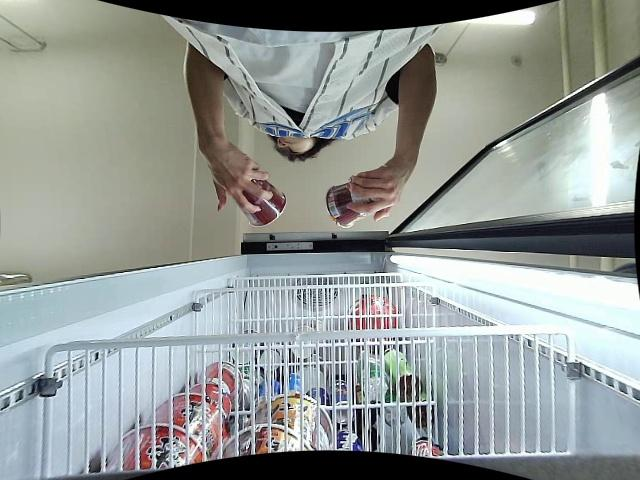00_hand: (205, 145, 274, 213), (347, 162, 415, 221)
06_nuguri_S: (232, 169, 286, 226), (326, 180, 373, 229)
